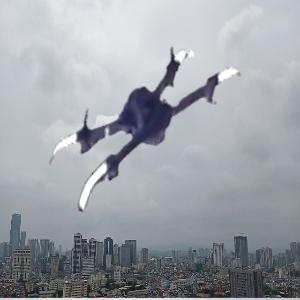drone: (50, 35, 259, 244)
